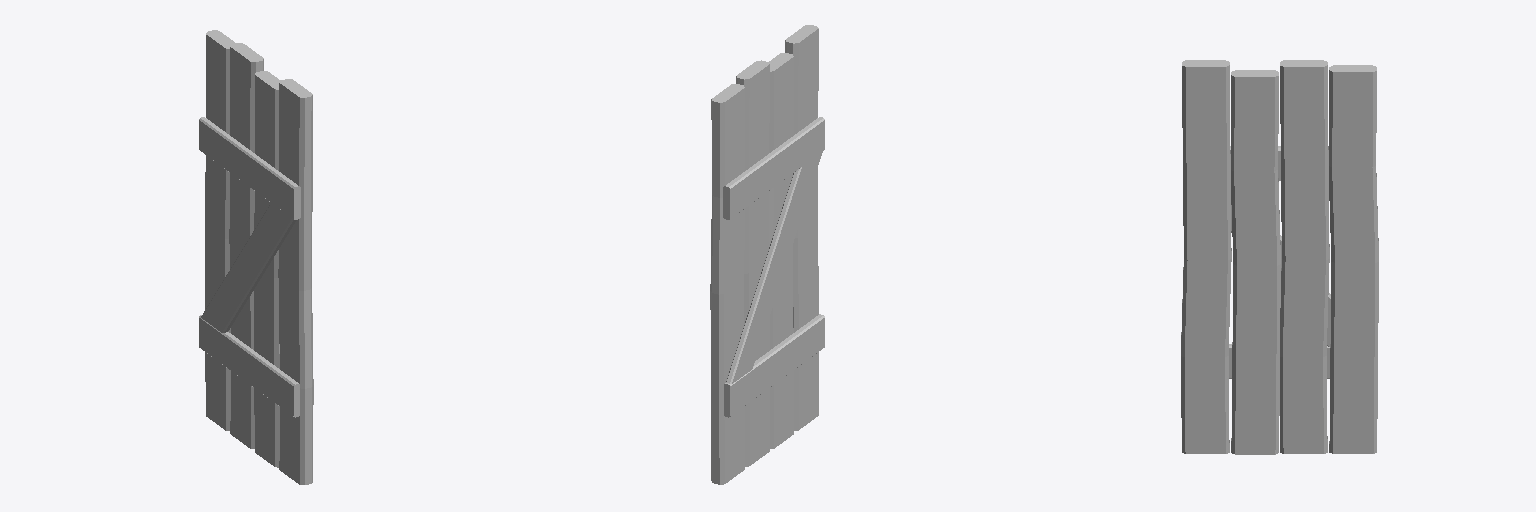
The model's file is GateDoorLeft.obj.
3 renders of one model, left to right at view 1: azimuth 30°, elevation 25°; view 2: azimuth 150°, elevation 25°; view 3: azimuth 270°, elevation 25°, orthographic.
Parts seen in each view (by area): view 1: polySurface1914; view 2: polySurface1914; view 3: polySurface1914.
Part boxes in pixels (x1,y1,x2,y2): polySurface1914: (199,30,313,484); polySurface1914: (710,25,824,484); polySurface1914: (1181,60,1378,454).
Size of the model in its own units: 23.01 by 432 by 200.